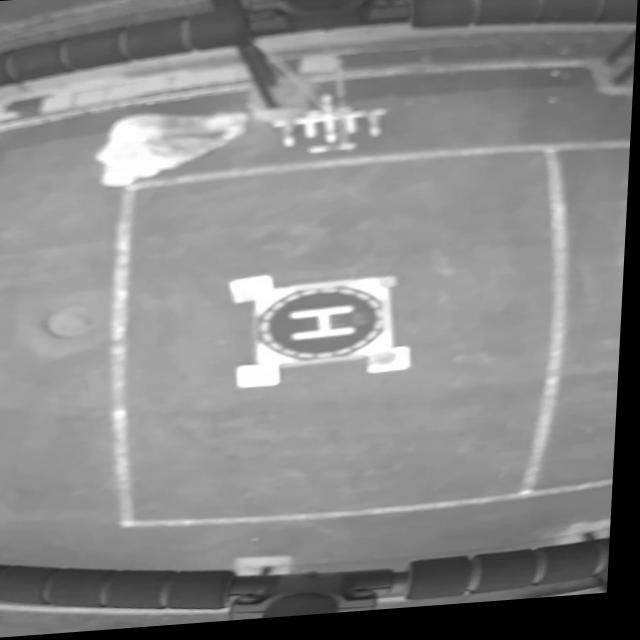Helipad: (293, 309, 361, 345)
